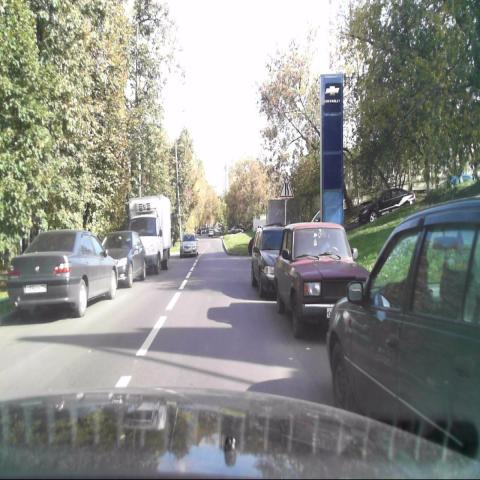1_20_2: (278, 176, 295, 199)
